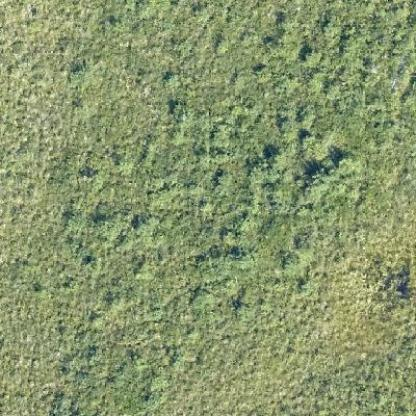tree-top: (246, 151, 286, 187), (297, 132, 331, 160)
